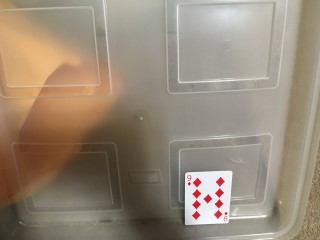NineOfDiamonds: (185, 171, 232, 224)
